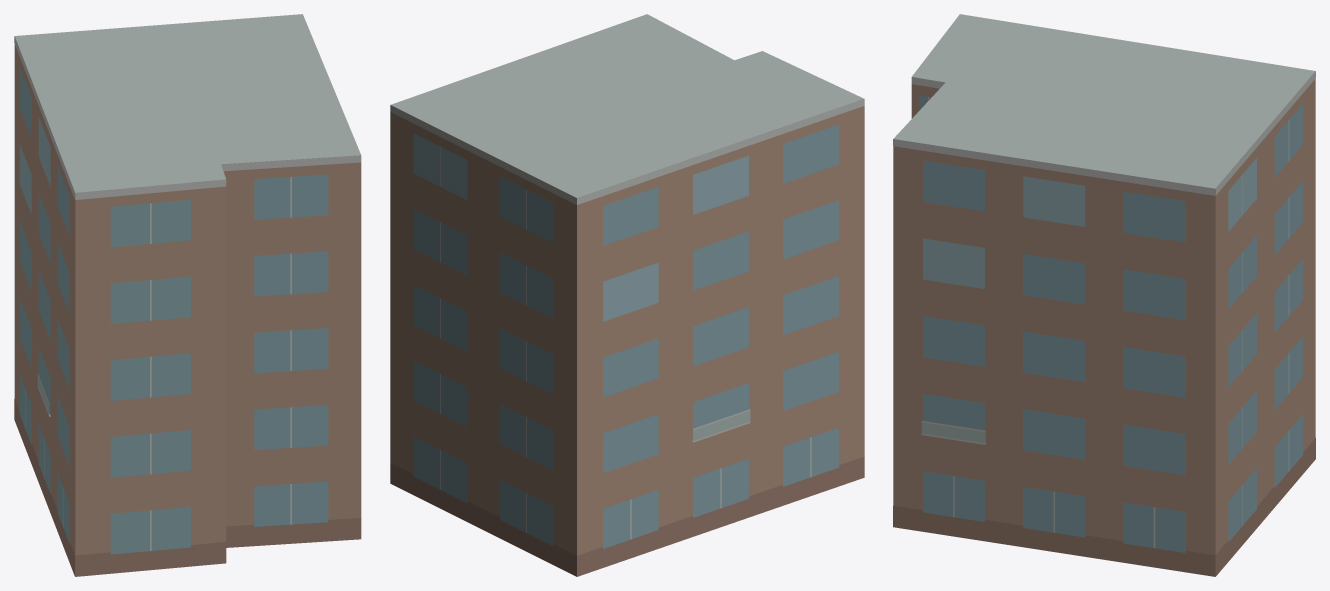
The model's file is survey-upis-32890041.glb.
The picture shows the model from 3 angles, left to right: view 1: azimuth 30°, elevation 25°; view 2: azimuth 150°, elevation 25°; view 3: azimuth 270°, elevation 25°; orthographic projection. The views are drawn at different scales.
Parts seen in each view (by area): view 1: survey-upis-32890041.tmp; view 2: survey-upis-32890041.tmp; view 3: survey-upis-32890041.tmp.
Part boxes in pixels (<box>): survey-upis-32890041.tmp: <box>14,14,361,576</box>; survey-upis-32890041.tmp: <box>390,14,864,576</box>; survey-upis-32890041.tmp: <box>893,14,1315,576</box>.
Bounding box in the file's own units: 12.7 × 13.15 × 12.98.
